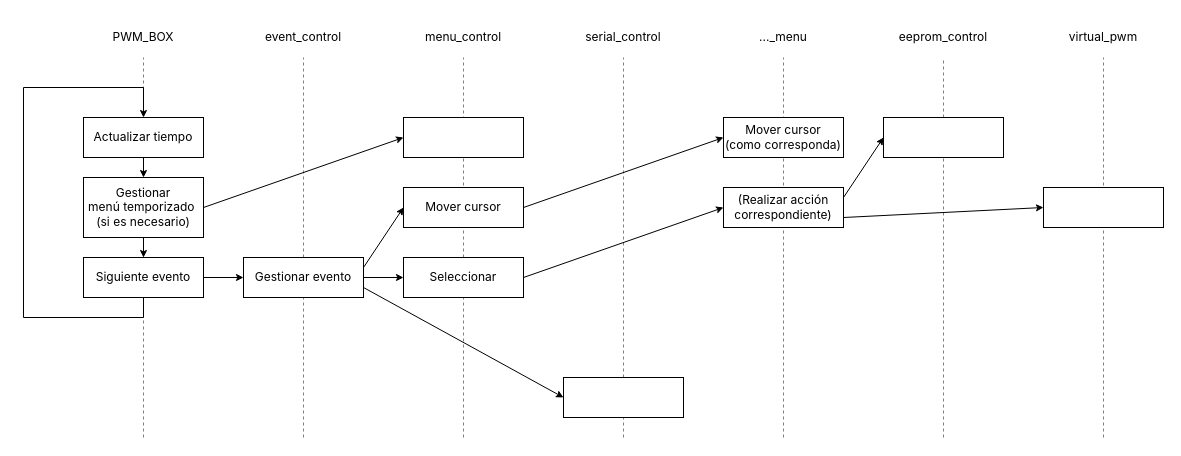
The diagram is 1181 pixels wide and 456 high, and some of its shapes have lost their labels. Each missing label, with the centre of its shape:
"Cambiar menú" belongs at (x=463, y=137).
"Cambiar parámetros" belongs at (x=1103, y=207).
"Guardar / cargar perfil" belongs at (x=943, y=137).
"Procesar mensaje" belongs at (x=623, y=397).
